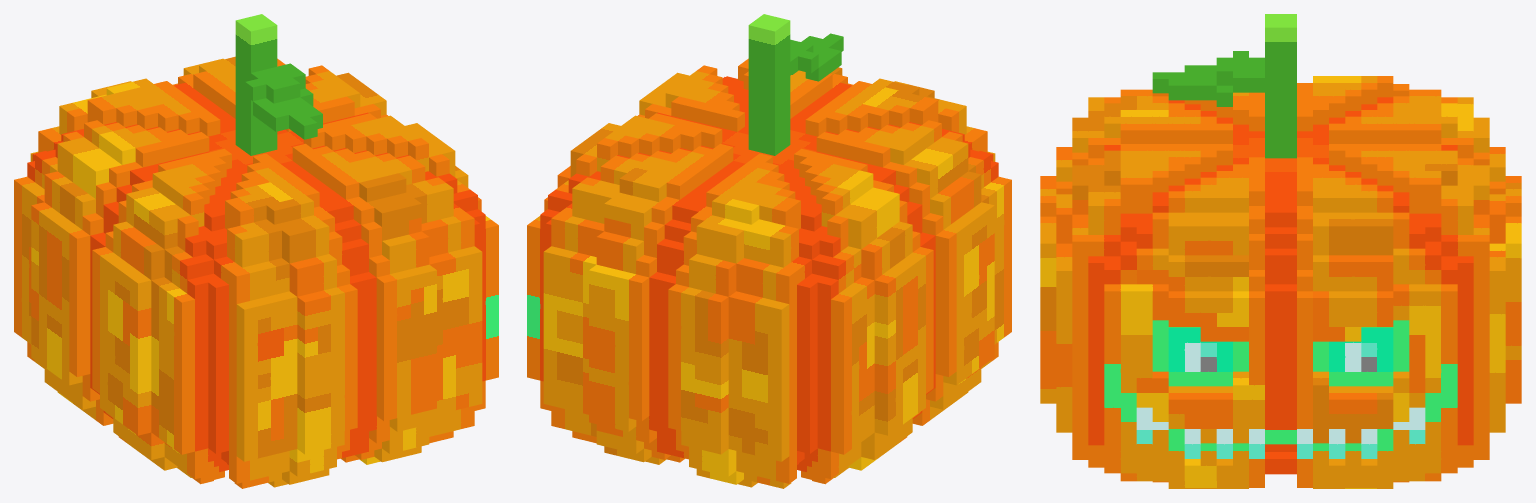
File: 万圣南瓜.gltf
3 renders of one model, left to right at view 1: azimuth 30°, elevation 25°; view 2: azimuth 150°, elevation 25°; view 3: azimuth 270°, elevation 25°, orthographic. The views are drawn at different scales.
Parts seen in each view (by area): view 1: Object; view 2: Object; view 3: Object.
Part boxes in pixels (left/top/right/bottom): Object: left=14, top=14, right=498, bottom=488; Object: left=527, top=14, right=1011, bottom=488; Object: left=1040, top=14, right=1521, bottom=488.
Bounding box in the file's own units: 26 × 28 × 30.
Materials: 1 (1 with a texture image).
